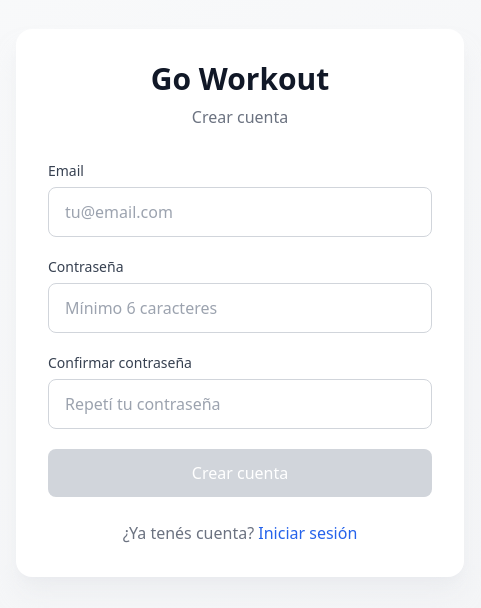
Test: RegistroPage › Validación de Password › muestra error cuando password tiene menos de 6 caracteres
The width and height of the screenshot is (481, 608).
Type "12345" into the password field labelled "Contraseña" at {"x": 240, "y": 308}, box [48, 283, 432, 333]
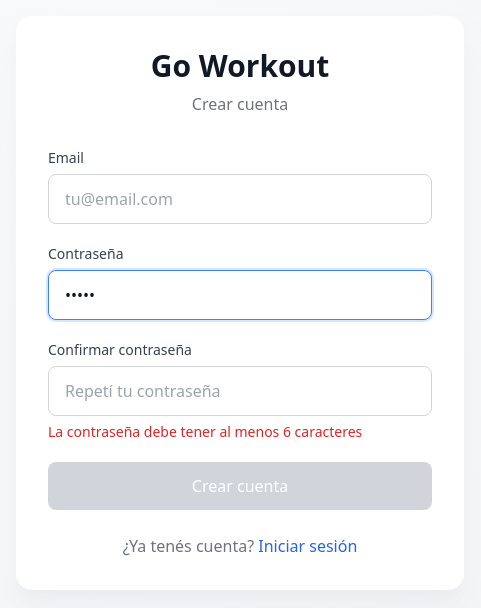
Check: the text "La contraseña debe tener al menos 6 caracteres" is shown, box [48, 422, 362, 441]
